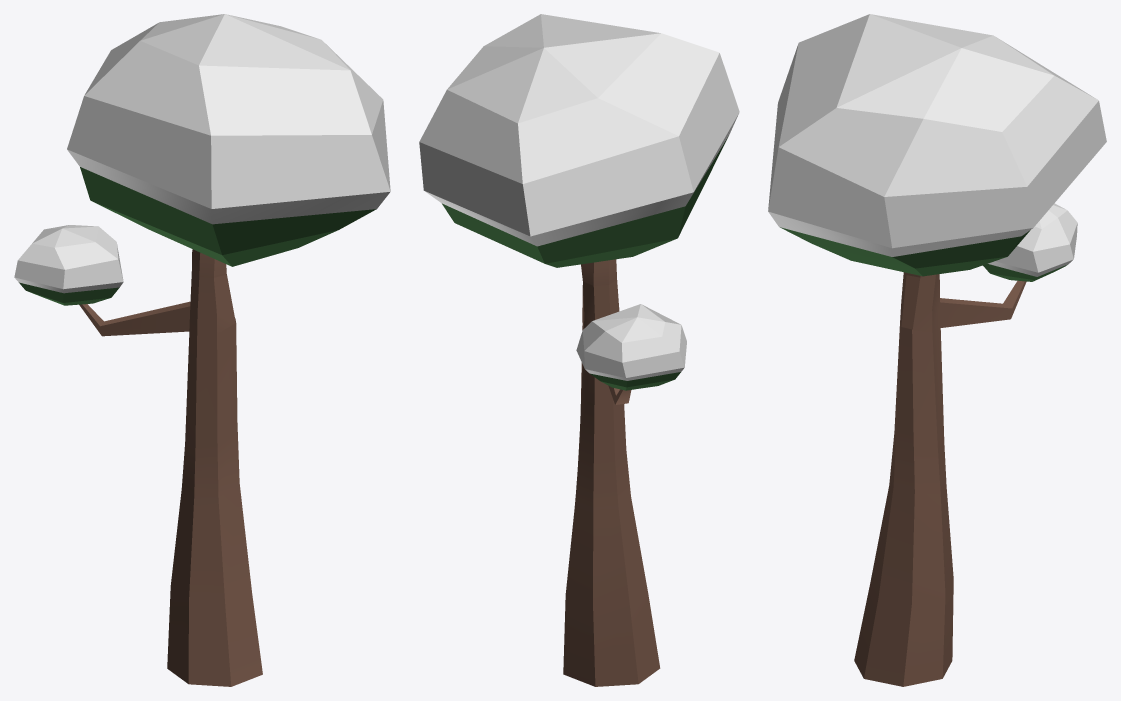
The model's file is Tree_3.fbx.
3 views of the same model, side by side, from view 1: azimuth 30°, elevation 25°; view 2: azimuth 150°, elevation 25°; view 3: azimuth 270°, elevation 25° (orthographic). The views are drawn at different scales.
Parts seen in each view (by area): view 1: pCylinder12; view 2: pCylinder12; view 3: pCylinder12.
Boxes of the visible parts, <box> form: pCylinder12: <box>14,14,390,686</box>; pCylinder12: <box>419,14,739,686</box>; pCylinder12: <box>768,14,1106,686</box>.
Size of the model in its own units: 4.58 by 9.24 by 4.4.
